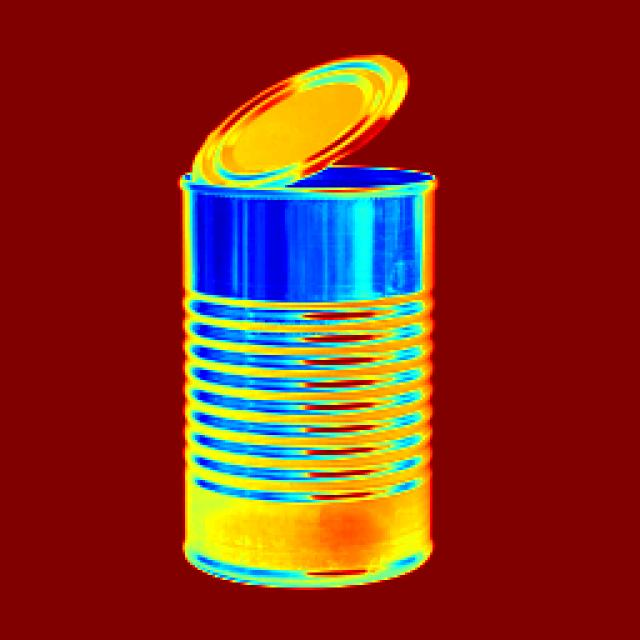Aluminium Food Cans: (150, 50, 485, 640)
